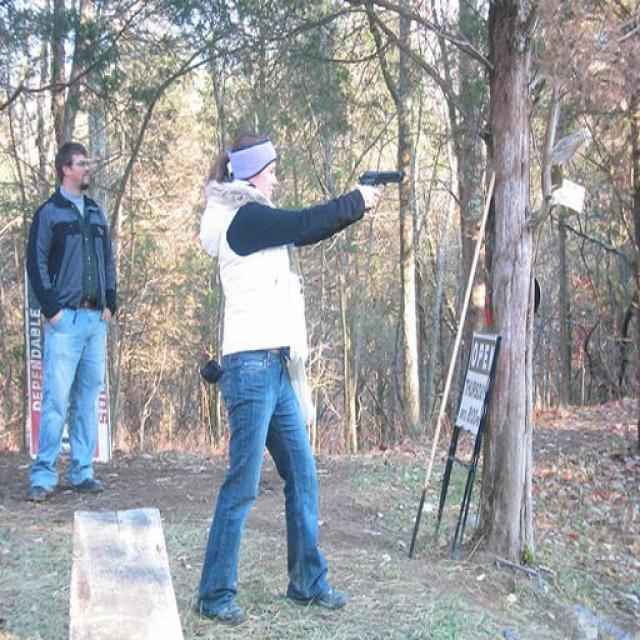pistol: (355, 165, 405, 189)
